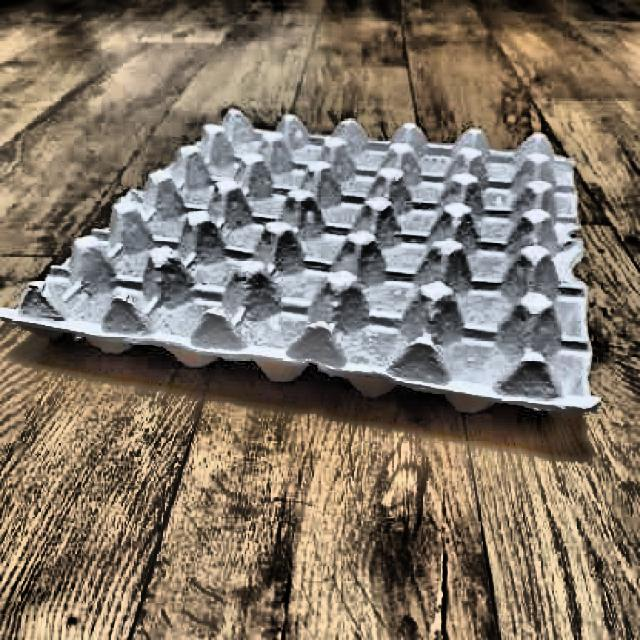Cardbox: (0, 53, 619, 436)
